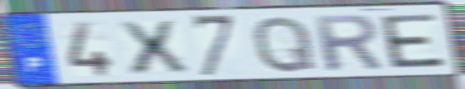4: (66, 20, 117, 79)
7: (191, 14, 240, 79)
E: (377, 12, 449, 70)
Q: (251, 13, 319, 75)
R: (310, 13, 386, 73)
X: (114, 18, 193, 77)
